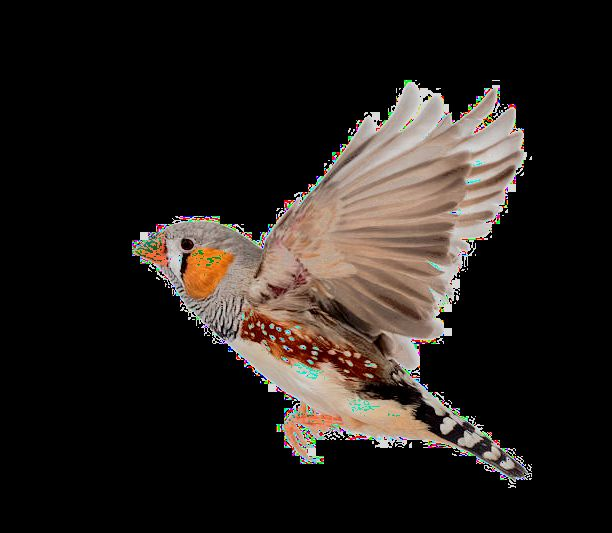Bird: (123, 72, 543, 493)
